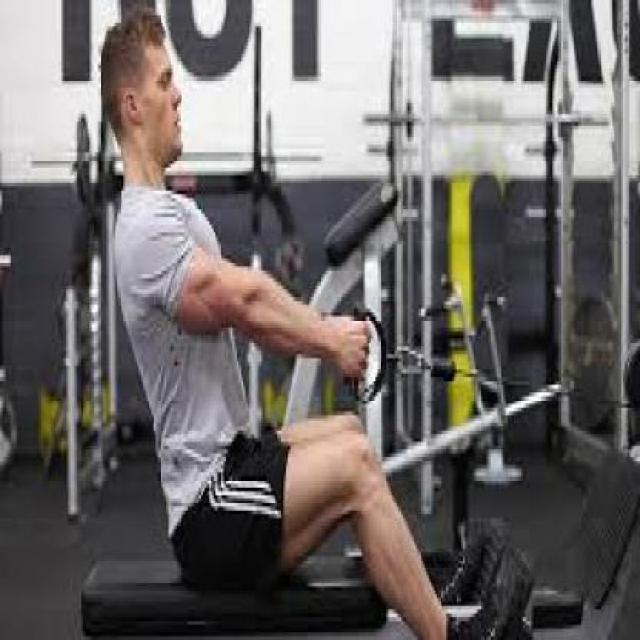Seated Cable Rows: (72, 0, 640, 640)
